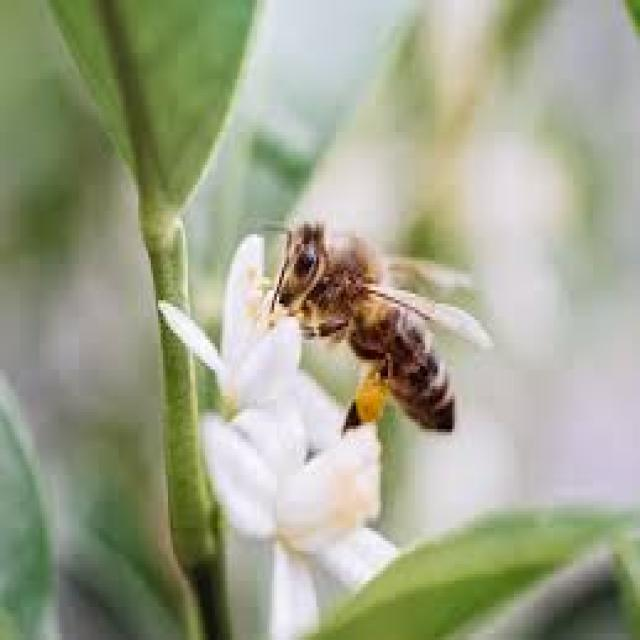Bees: (258, 216, 496, 444)
